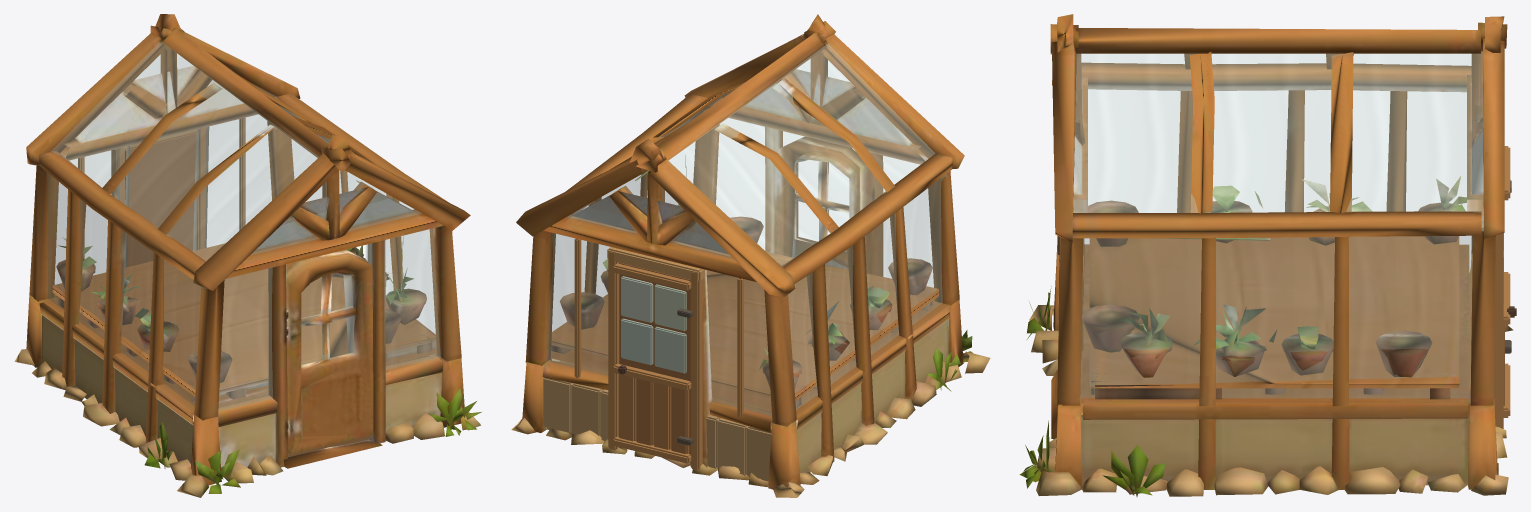
3 views of the same model, side by side, from view 1: azimuth 30°, elevation 25°; view 2: azimuth 150°, elevation 25°; view 3: azimuth 270°, elevation 25° (orthographic). The views are drawn at different scales.
Parts seen in each view (by area): view 1: tripo_node_73a4eb71-1321-47de-914f-13309d7531d2, 지붕 및 벽 비닐, 외형 세부; view 2: tripo_node_73a4eb71-1321-47de-914f-13309d7531d2, 지붕 및 벽 비닐, 외형 세부; view 3: tripo_node_73a4eb71-1321-47de-914f-13309d7531d2, 지붕 및 벽 비닐, 외형 세부.
Part boxes in pixels (x1=…): tripo_node_73a4eb71-1321-47de-914f-13309d7531d2: x1=14, y1=14, x2=481, y2=497; 지붕 및 벽 비닐: x1=47, y1=42, x2=440, y2=411; 외형 세부: x1=78, y1=118, x2=370, y2=457; tripo_node_73a4eb71-1321-47de-914f-13309d7531d2: x1=511, y1=14, x2=990, y2=497; 지붕 및 벽 비닐: x1=547, y1=44, x2=946, y2=416; 외형 세부: x1=543, y1=238, x2=772, y2=481; tripo_node_73a4eb71-1321-47de-914f-13309d7531d2: x1=1019, y1=14, x2=1513, y2=496; 지붕 및 벽 비닐: x1=1073, y1=51, x2=1483, y2=404; 외형 세부: x1=1469, y1=146, x2=1516, y2=428.
Size of the model in its own units: 4.72 by 4.65 by 5.2.
Materials: 3 (2 with a texture image).
